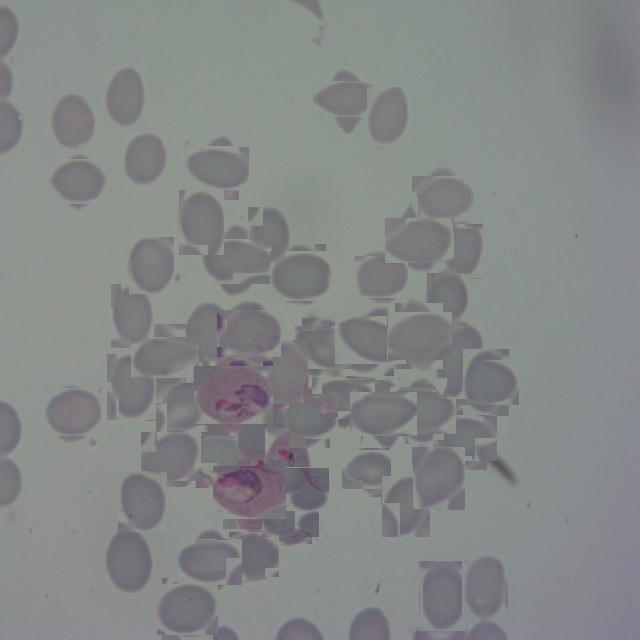leukocyte: (340, 310, 400, 370), (436, 327, 485, 399), (207, 233, 266, 291), (418, 561, 466, 632), (394, 382, 452, 440), (106, 354, 156, 421), (412, 447, 465, 510), (390, 307, 448, 364), (257, 340, 308, 404), (272, 248, 330, 304), (391, 212, 448, 268), (104, 529, 152, 595), (181, 534, 237, 590), (458, 354, 514, 410), (355, 386, 411, 442), (160, 581, 216, 637), (221, 306, 277, 362), (381, 476, 430, 538), (184, 302, 230, 368), (178, 190, 224, 256), (462, 554, 508, 620), (437, 410, 492, 465), (138, 330, 192, 386), (238, 403, 290, 461), (118, 471, 167, 532), (44, 384, 98, 439), (190, 141, 244, 195), (144, 430, 198, 484), (280, 390, 334, 444), (416, 172, 470, 226), (110, 284, 154, 349), (321, 73, 374, 126), (49, 94, 96, 153), (316, 372, 369, 424), (298, 322, 351, 374), (366, 87, 411, 148), (103, 66, 146, 129), (53, 156, 105, 208), (190, 431, 242, 483), (128, 237, 174, 295), (156, 382, 207, 433), (122, 132, 168, 188), (266, 490, 316, 540), (248, 207, 290, 264), (230, 531, 278, 579), (346, 446, 394, 494), (357, 253, 405, 301), (442, 224, 483, 279), (427, 273, 469, 326), (286, 467, 330, 511)
schizont: (198, 360, 268, 430), (218, 460, 282, 524)
